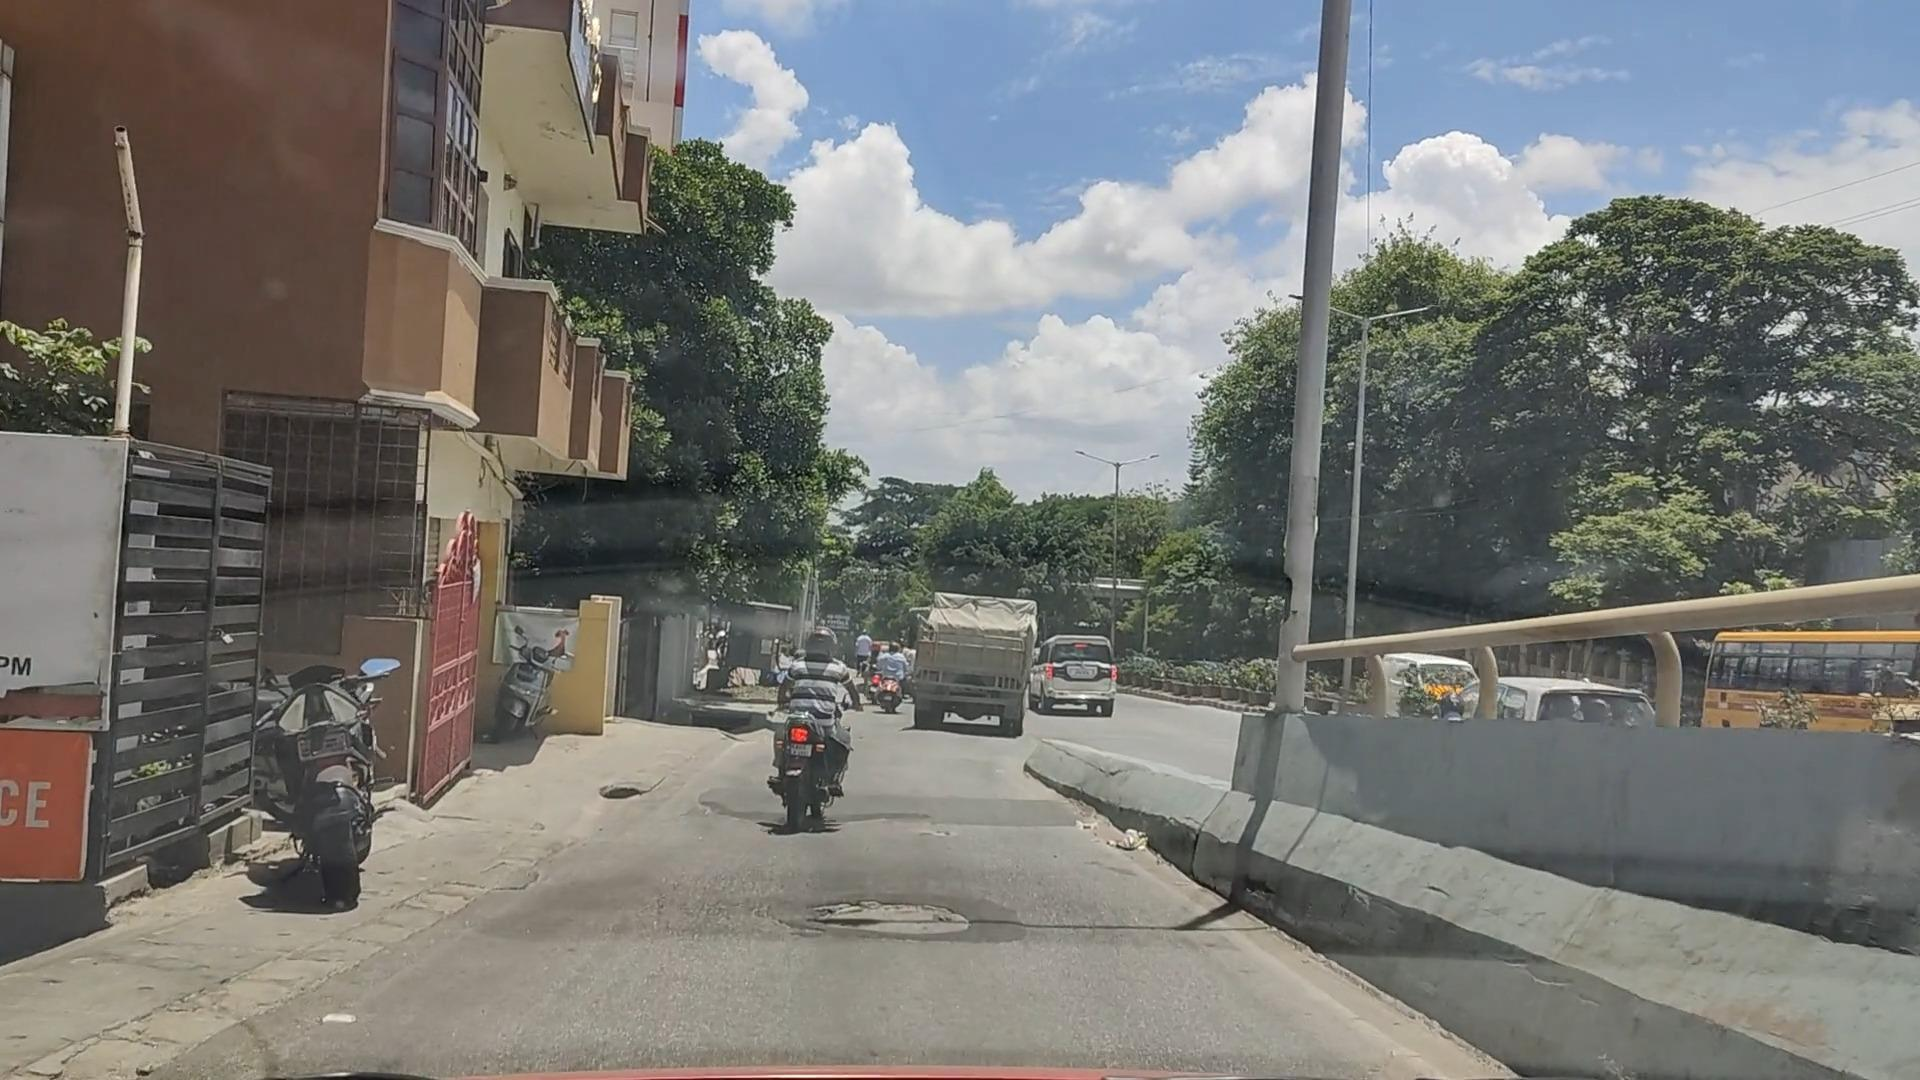HMV: (903, 588, 1046, 746)
LMV: (224, 626, 421, 924)
RoadDamages: (766, 869, 1040, 971), (587, 762, 661, 822)
